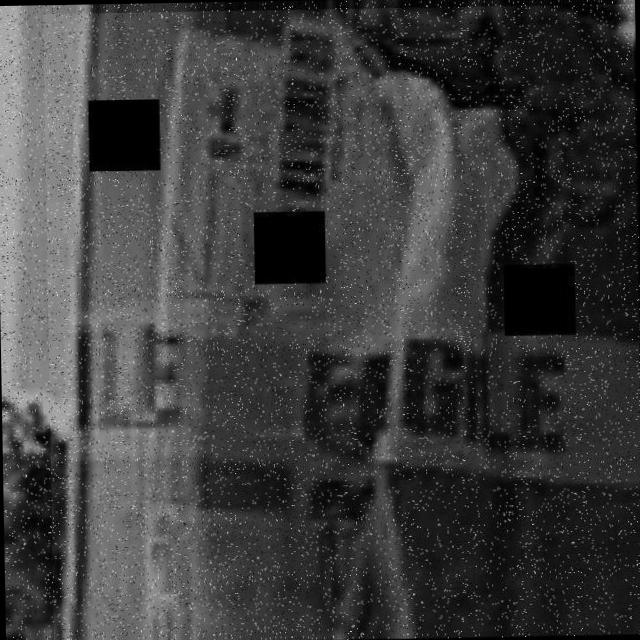box: (42, 2, 640, 640)
